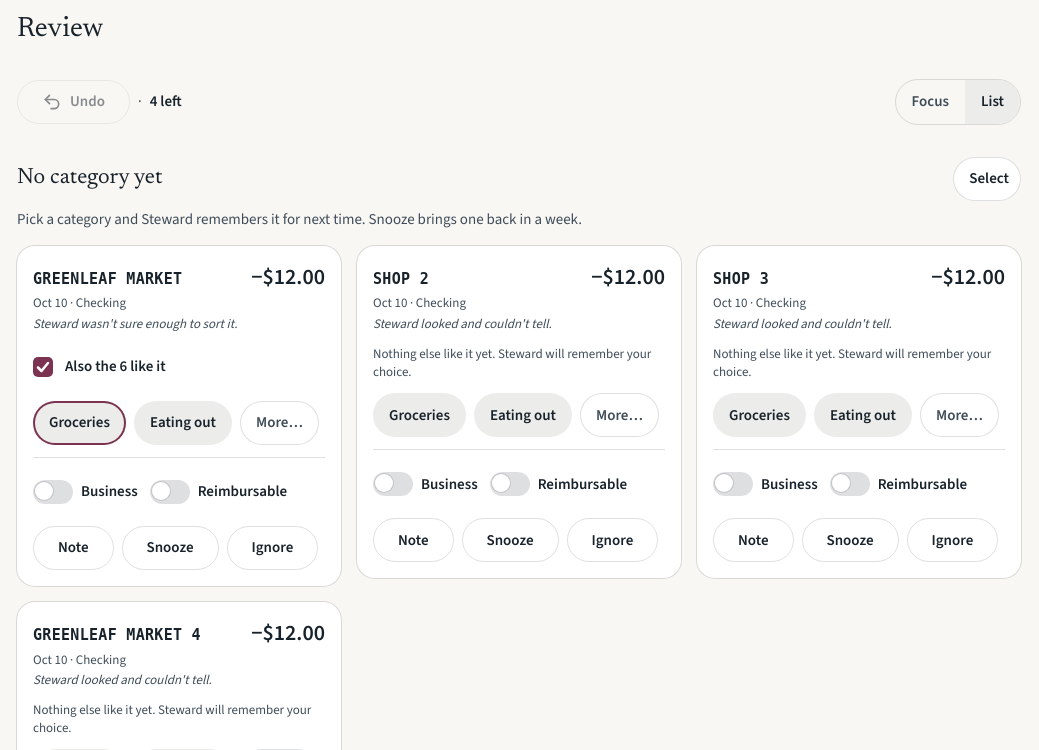
Test case: the list (review focus P20, P21): a card acted on becomes a slim row in its place › a sort leaves a slim row where the card was, marks its matches, keeps the order, and the toast names it with Undo
Check: the button "Undo" is disabled, box 17,80 -> 130,124
Check: the element with test id "review-top" shows "4 left", box 150,91 -> 182,111
Click the button "Groceries" below "Also the 6 like it" at (79, 423), box 33,401 -> 126,445
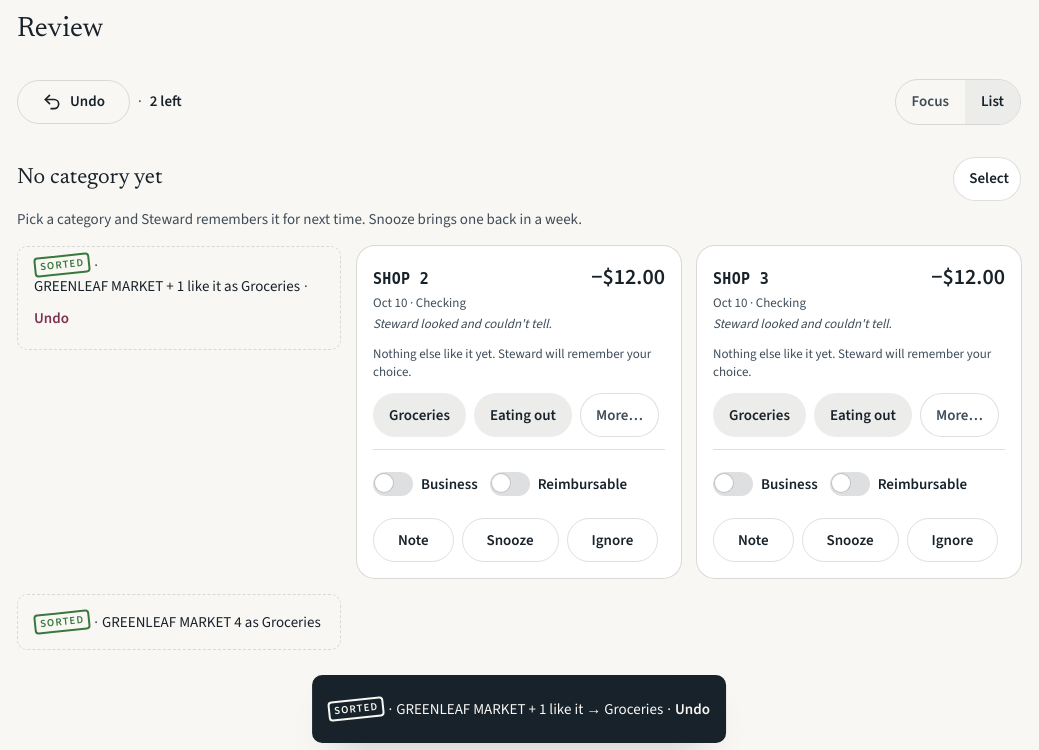
Check: the element with test id "slim-row" reads "SORTED · GREENLEAF MARKET + 1 like it as Groceries · Undo", box 17,246 -> 341,350
Check: the element with test id "slim-row" reads "SORTED · GREENLEAF MARKET 4 as Groceries", box 17,594 -> 341,650
Check: the message with class "undo-toast" reads "SORTED · GREENLEAF MARKET + 1 like it → Groceries · Undo", box 312,675 -> 726,743
